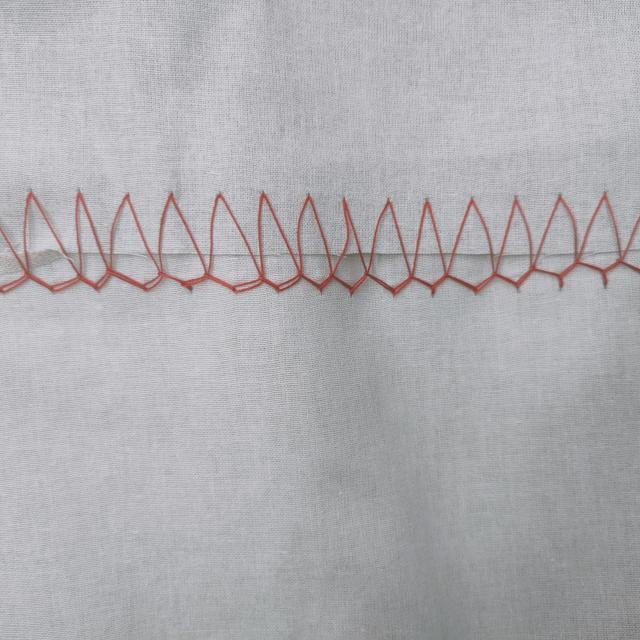Stitch: (2, 154, 640, 374)
